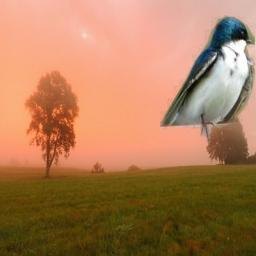Swallow: (160, 15, 255, 145)
